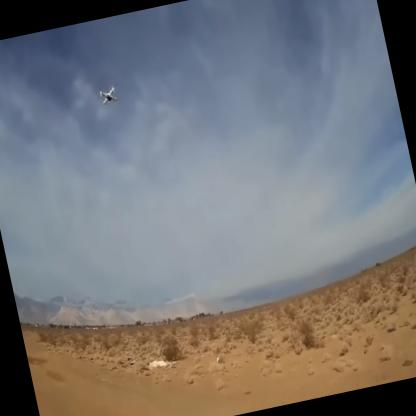drone: (95, 80, 127, 114)
